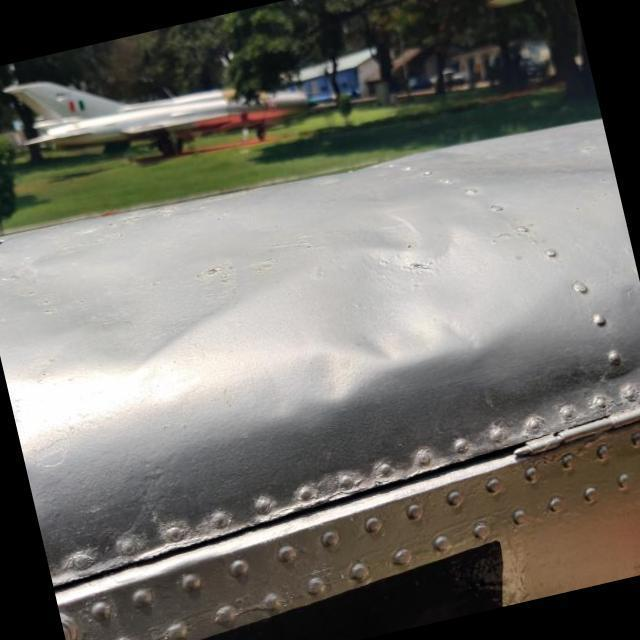Dent: (268, 166, 560, 436)
